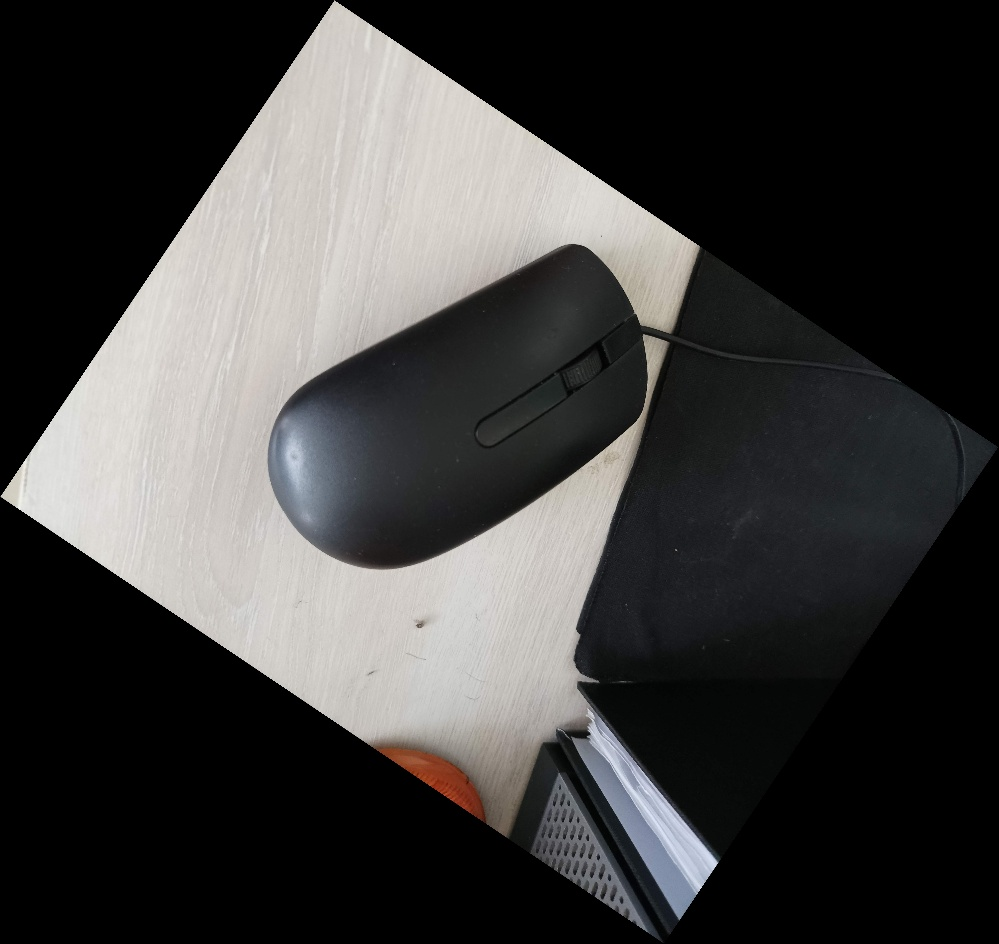mouse: (262, 241, 650, 573)
